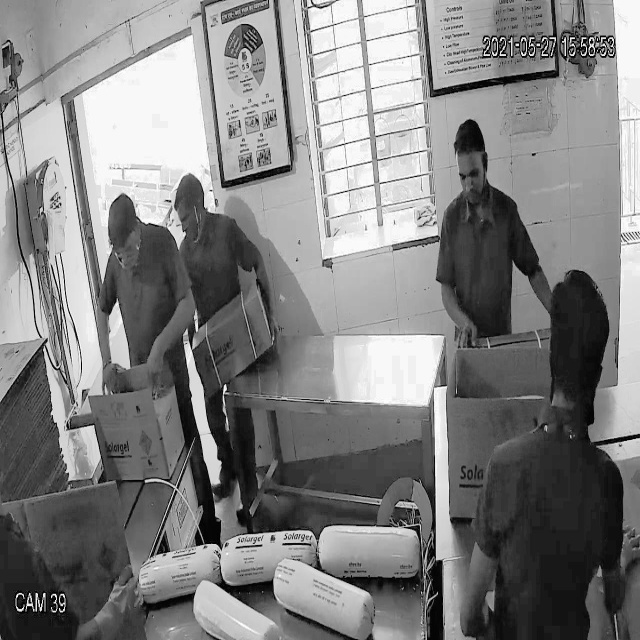Sin_gafas: (456, 159, 488, 191)
